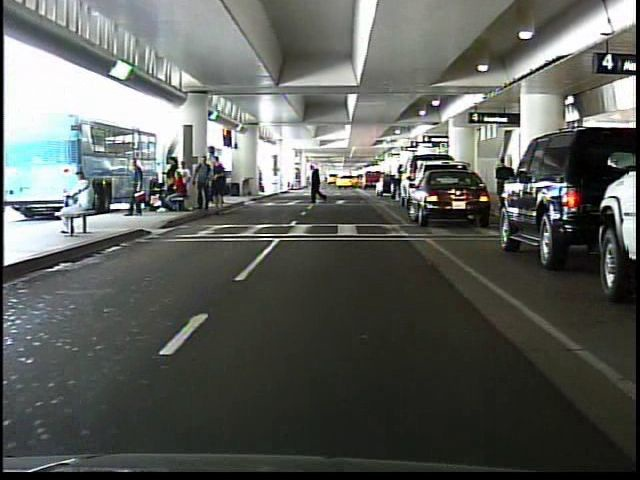person: (51, 164, 97, 239), (121, 151, 149, 221), (306, 162, 329, 208), (400, 162, 401, 201)
